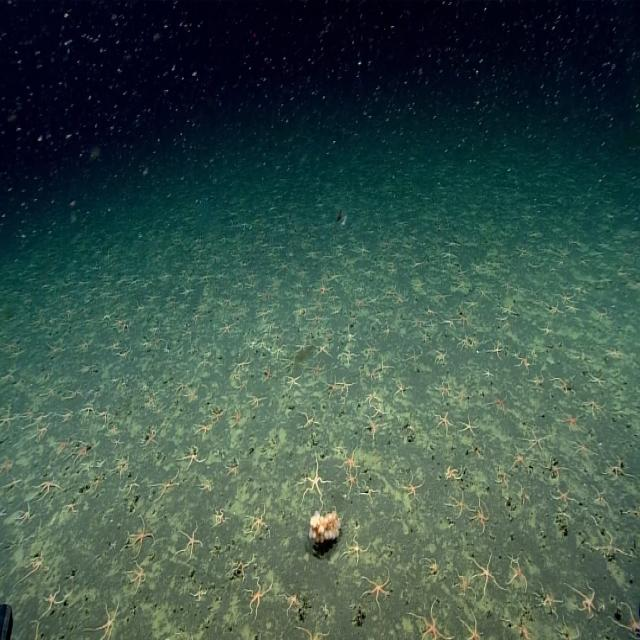brittle-stars: (298, 451, 332, 504), (412, 599, 453, 640), (92, 585, 120, 640), (119, 556, 157, 596), (470, 550, 504, 594), (361, 568, 394, 612), (242, 575, 276, 615), (609, 597, 640, 640), (589, 530, 629, 563), (126, 512, 154, 558), (176, 519, 204, 562), (570, 580, 600, 619), (462, 602, 491, 640), (343, 526, 370, 566), (398, 464, 426, 502), (298, 612, 334, 640), (247, 498, 269, 541), (508, 602, 531, 640), (536, 588, 566, 616), (521, 430, 551, 457), (433, 409, 461, 437), (508, 560, 532, 592), (40, 587, 69, 613), (573, 434, 600, 460), (35, 473, 60, 501), (12, 506, 41, 530), (458, 411, 481, 441), (584, 369, 612, 393), (180, 443, 203, 472), (508, 443, 529, 474), (26, 552, 49, 580), (0, 403, 24, 429), (23, 620, 54, 640), (170, 621, 202, 640), (450, 494, 472, 521), (473, 505, 494, 533), (559, 407, 582, 432), (602, 456, 626, 479), (548, 446, 570, 471), (229, 554, 251, 579), (280, 591, 306, 612), (390, 376, 411, 402), (442, 462, 466, 484), (298, 408, 320, 432), (554, 375, 576, 398), (372, 353, 395, 375), (362, 416, 382, 441), (582, 400, 606, 420), (46, 336, 67, 358), (552, 488, 575, 508), (338, 345, 358, 368), (283, 371, 303, 394), (338, 455, 362, 474), (344, 472, 362, 497), (455, 571, 471, 599), (138, 429, 159, 450), (156, 474, 176, 496), (514, 350, 534, 372), (436, 380, 456, 402), (244, 393, 268, 411), (490, 392, 510, 413), (512, 485, 534, 504), (326, 373, 343, 397), (224, 457, 240, 482), (338, 374, 358, 394), (423, 557, 441, 579), (112, 457, 132, 476), (308, 360, 327, 380), (75, 443, 92, 465), (406, 346, 423, 368), (558, 623, 580, 640), (27, 412, 50, 428), (260, 366, 279, 385), (453, 388, 471, 408), (363, 389, 381, 409), (294, 333, 312, 353), (313, 342, 331, 362), (32, 422, 49, 443), (432, 348, 450, 367), (282, 355, 300, 373), (529, 373, 548, 390), (4, 476, 24, 492), (174, 376, 188, 398), (56, 436, 72, 455), (489, 338, 504, 358), (231, 357, 251, 372), (65, 387, 85, 402), (207, 405, 223, 423), (342, 326, 358, 344), (125, 474, 138, 496), (494, 470, 509, 489), (366, 370, 385, 385), (62, 499, 78, 516), (90, 457, 107, 473), (369, 404, 388, 418), (146, 389, 158, 411), (194, 423, 214, 436), (192, 586, 208, 602), (362, 342, 378, 358), (146, 334, 163, 349), (472, 324, 487, 341), (500, 302, 518, 316), (212, 512, 228, 527), (98, 409, 114, 424), (218, 322, 234, 337), (460, 327, 474, 344), (557, 291, 574, 305), (115, 346, 134, 358), (362, 485, 377, 500), (108, 434, 123, 449), (592, 493, 607, 508), (457, 313, 472, 328), (80, 403, 96, 417), (230, 412, 244, 428), (196, 357, 212, 371), (0, 340, 16, 354), (444, 316, 456, 334), (200, 479, 214, 494), (271, 346, 285, 361), (0, 495, 11, 514), (186, 386, 197, 405), (540, 324, 556, 337), (550, 300, 563, 316), (105, 341, 123, 352), (606, 349, 624, 360), (88, 480, 103, 493), (77, 337, 90, 352), (0, 461, 13, 475), (594, 307, 606, 321), (421, 326, 430, 344), (481, 368, 494, 380), (230, 370, 242, 383), (506, 552, 518, 565), (319, 603, 330, 617), (564, 305, 580, 314), (187, 343, 200, 354), (408, 318, 423, 327), (44, 387, 56, 398), (499, 321, 512, 331), (496, 314, 508, 324), (109, 427, 119, 438), (26, 407, 36, 418), (248, 338, 259, 348), (60, 413, 72, 421), (425, 309, 437, 317), (258, 342, 268, 350)
